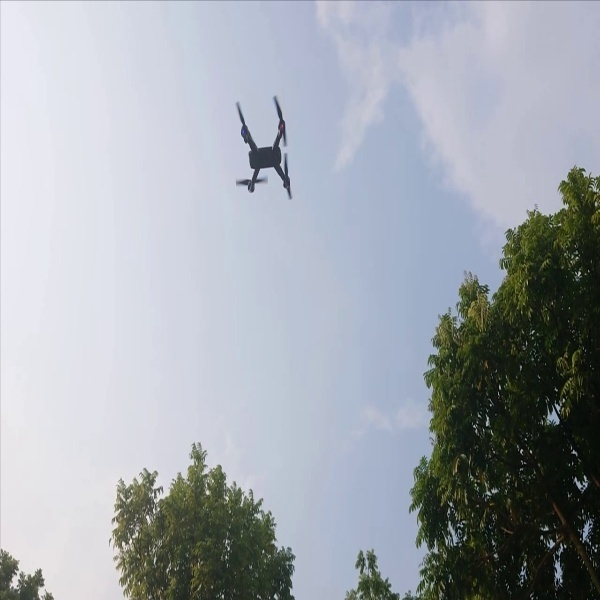drone: (224, 93, 302, 206)
